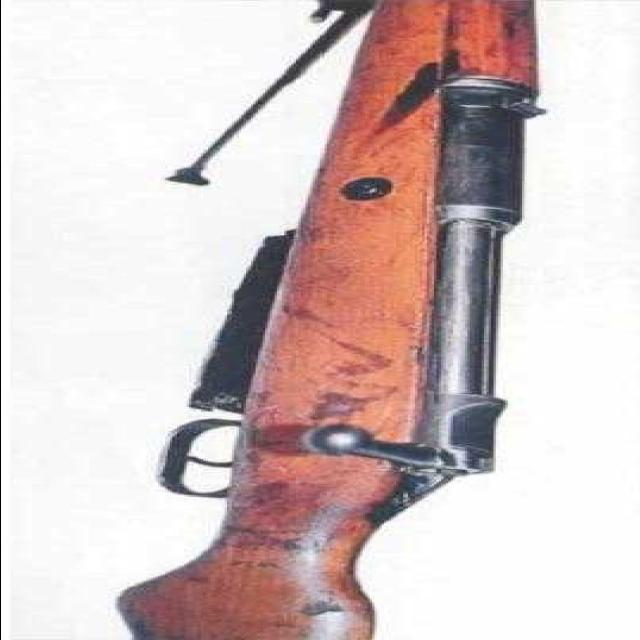heavyweapon: (73, 2, 570, 640)
